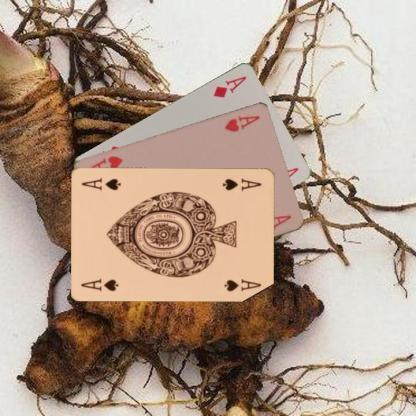Ad: (210, 73, 248, 99)
Ah: (221, 113, 262, 133)
As: (79, 275, 120, 292), (220, 175, 263, 191)
